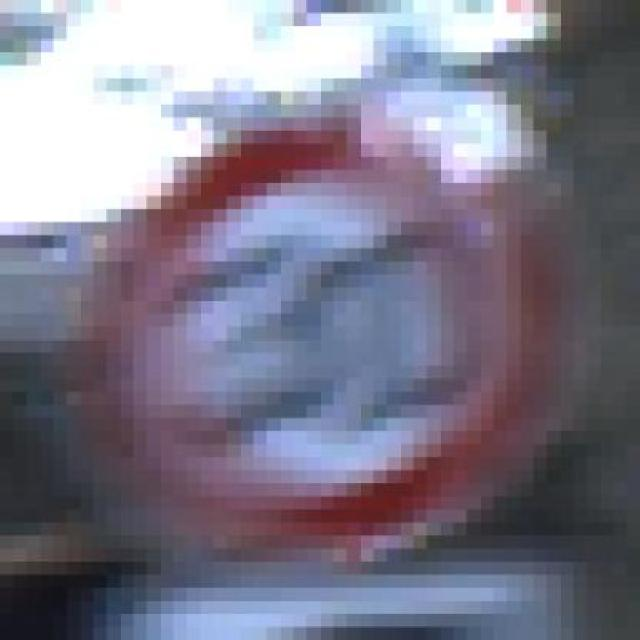Speed Limit 30 KMPh: (40, 78, 600, 574)
